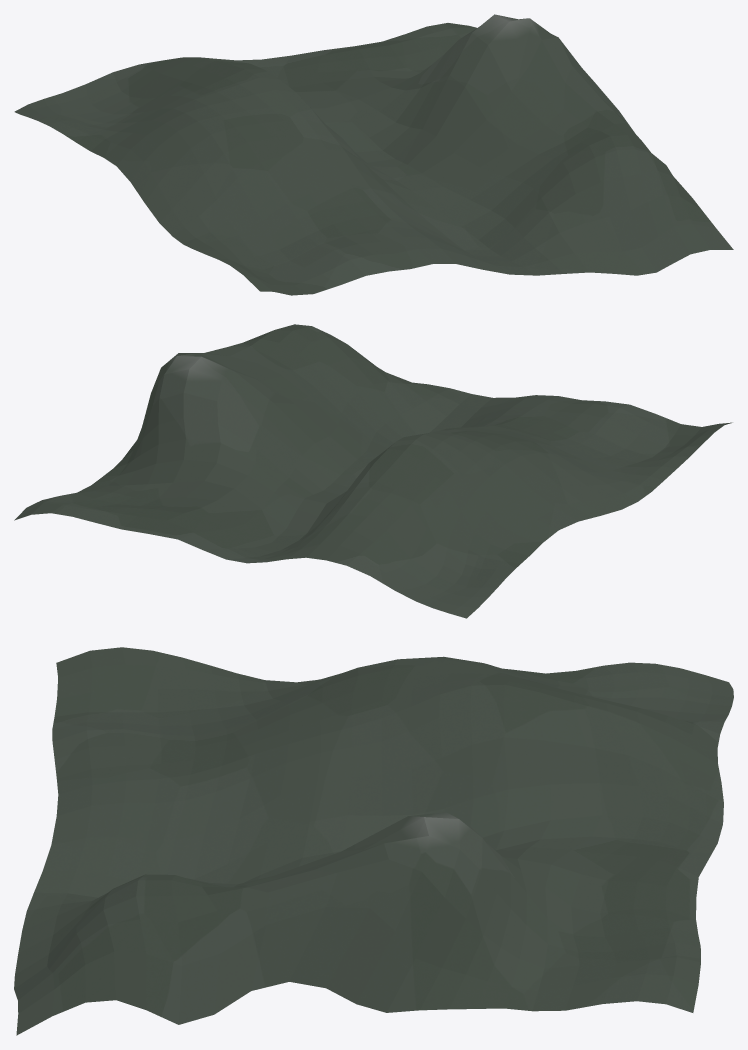
Rendered from Hill_3.glb.
3 views of the same model, one above another, from view 1: azimuth 30°, elevation 25°; view 2: azimuth 150°, elevation 25°; view 3: azimuth 270°, elevation 25° (orthographic). The views are drawn at different scales.
Visible parts, largest first — view 1: Hill_3; view 2: Hill_3; view 3: Hill_3.
Part boxes in pixels (<box>): Hill_3: <box>14,14,733,295</box>; Hill_3: <box>14,324,732,618</box>; Hill_3: <box>14,647,733,1035</box>.
Size of the model in its own units: 15.44 by 4.16 by 15.3.
1 material, 1 textured.
